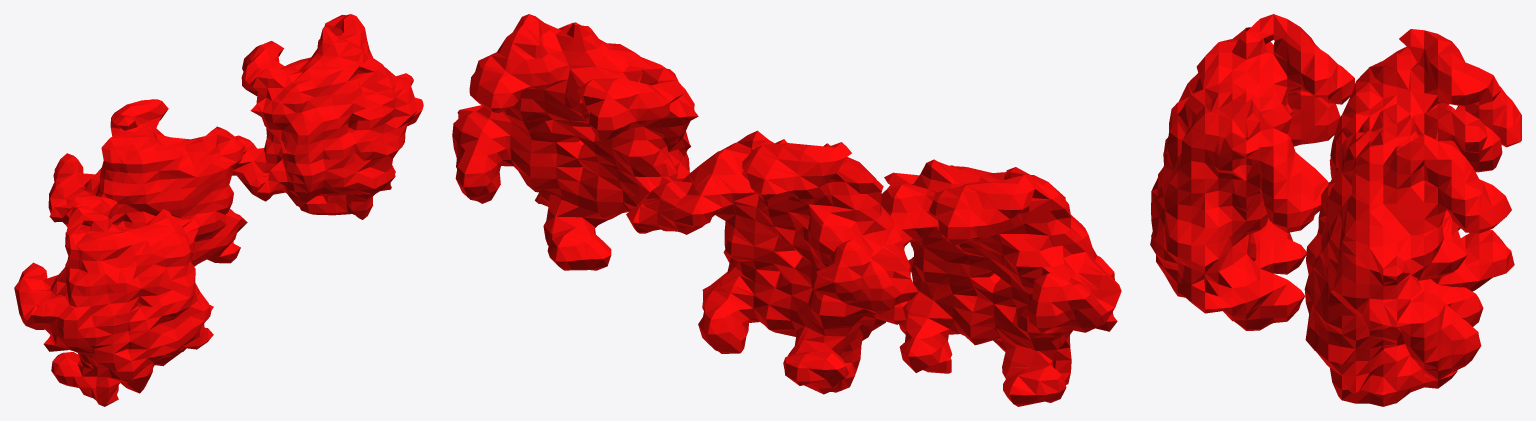
The model's file is folE_coarse.dae.
3 views of the same model, side by side, from view 1: azimuth 30°, elevation 25°; view 2: azimuth 150°, elevation 25°; view 3: azimuth 270°, elevation 25° (orthographic). The views are drawn at different scales.
Parts seen in each view (by area): view 1: folE; view 2: folE; view 3: folE.
Part boxes in pixels (bbox=[...]): folE: bbox=[14, 14, 423, 406]; folE: bbox=[452, 14, 1121, 406]; folE: bbox=[1150, 14, 1521, 406].
Size of the model in its own units: 273 by 152 by 129.
